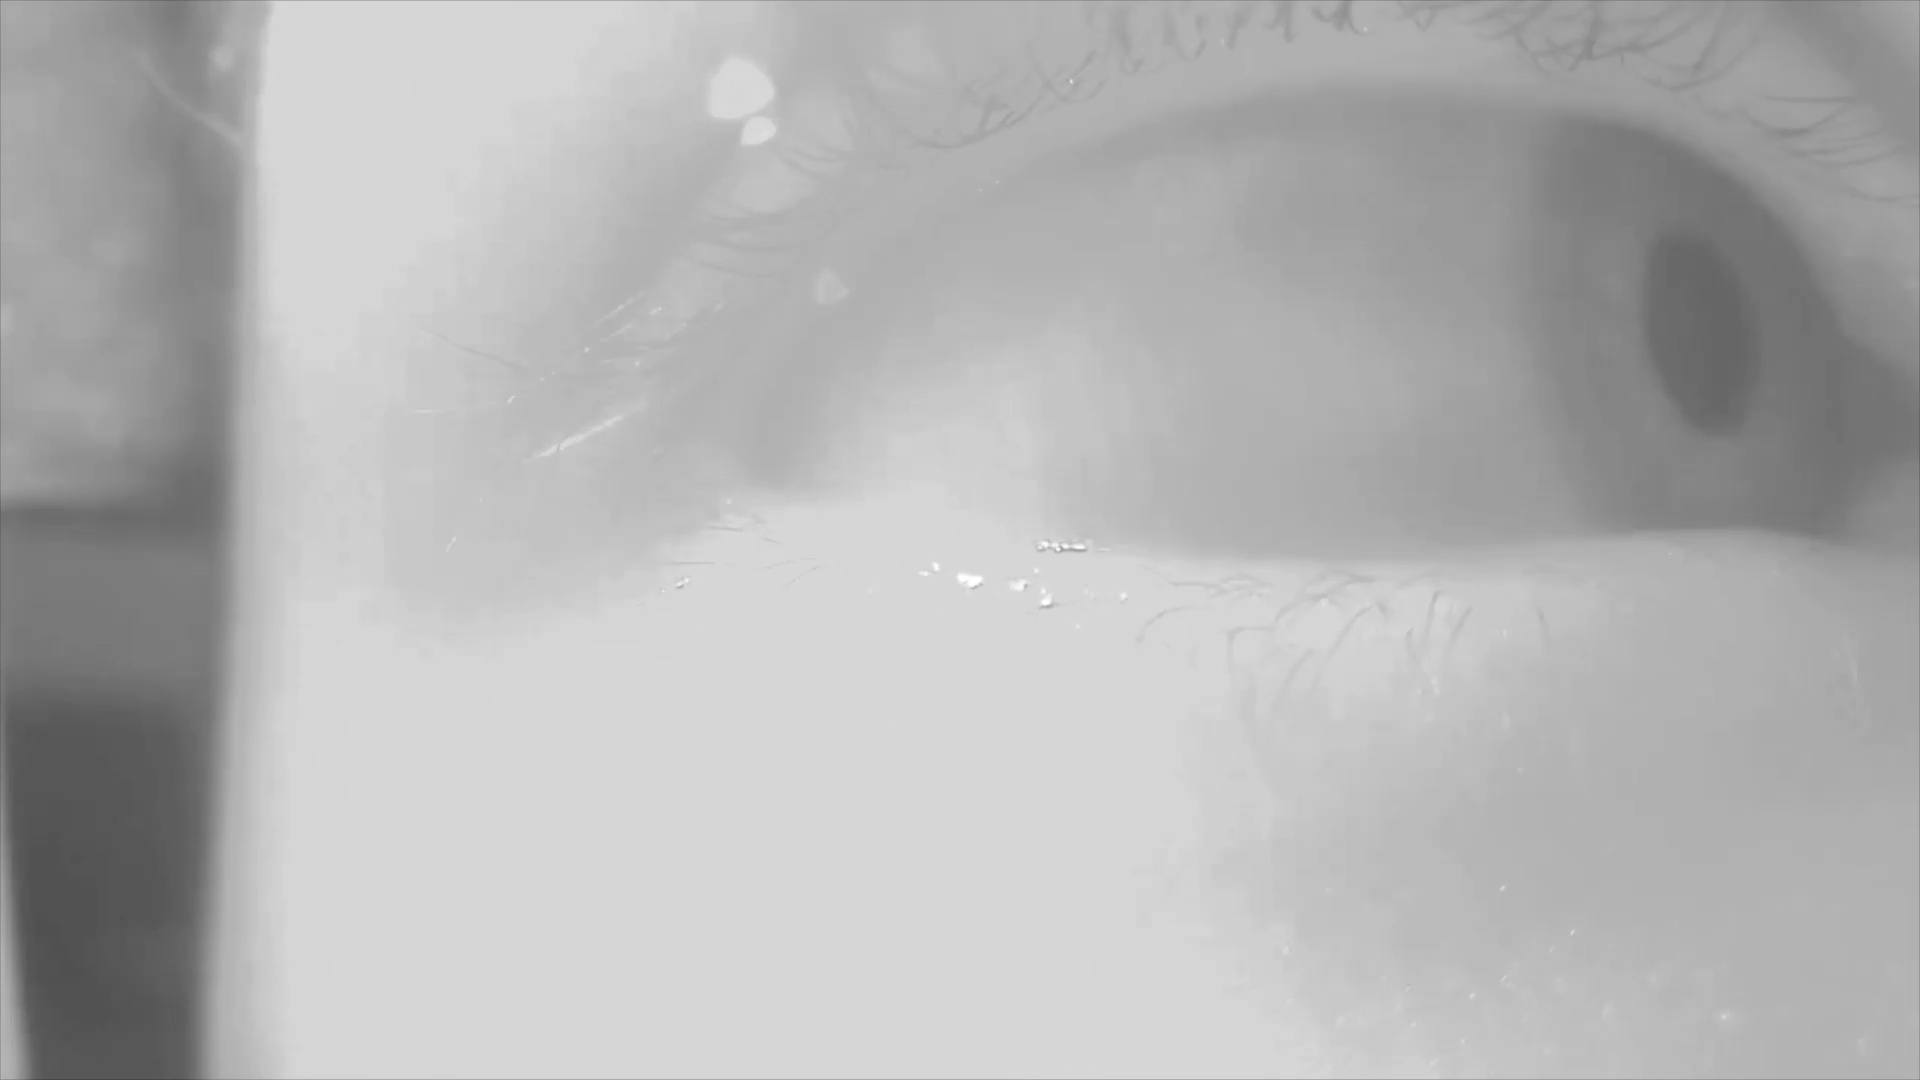pupil: (1643, 233, 1763, 447)
